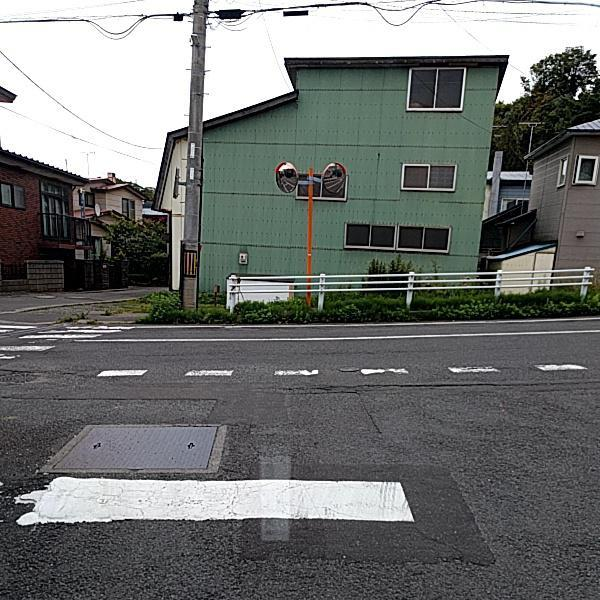D50: (338, 364, 359, 372)
